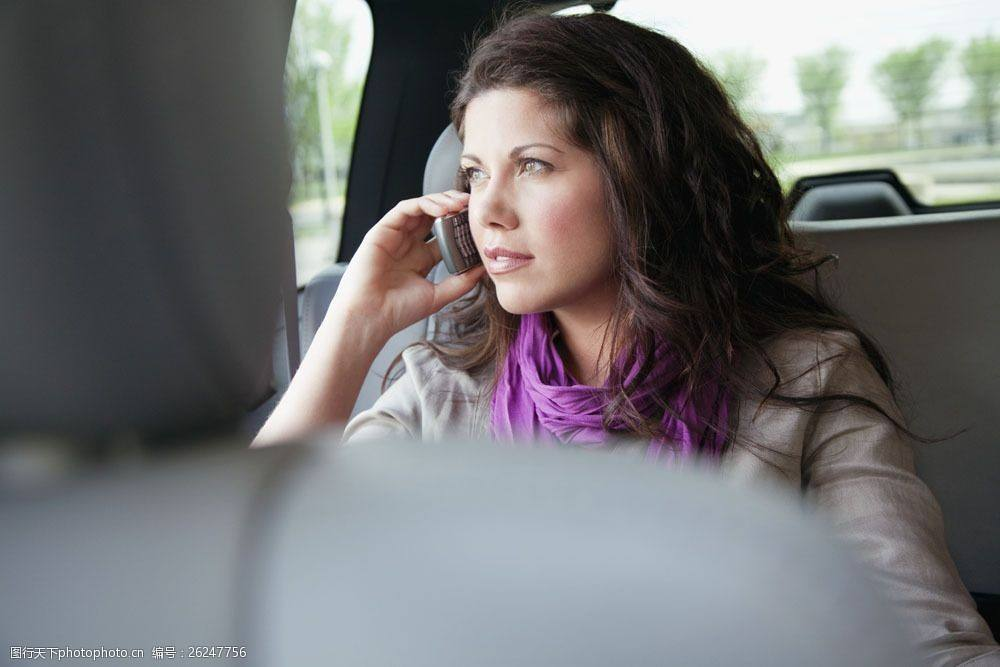calling: (337, 184, 489, 338)
